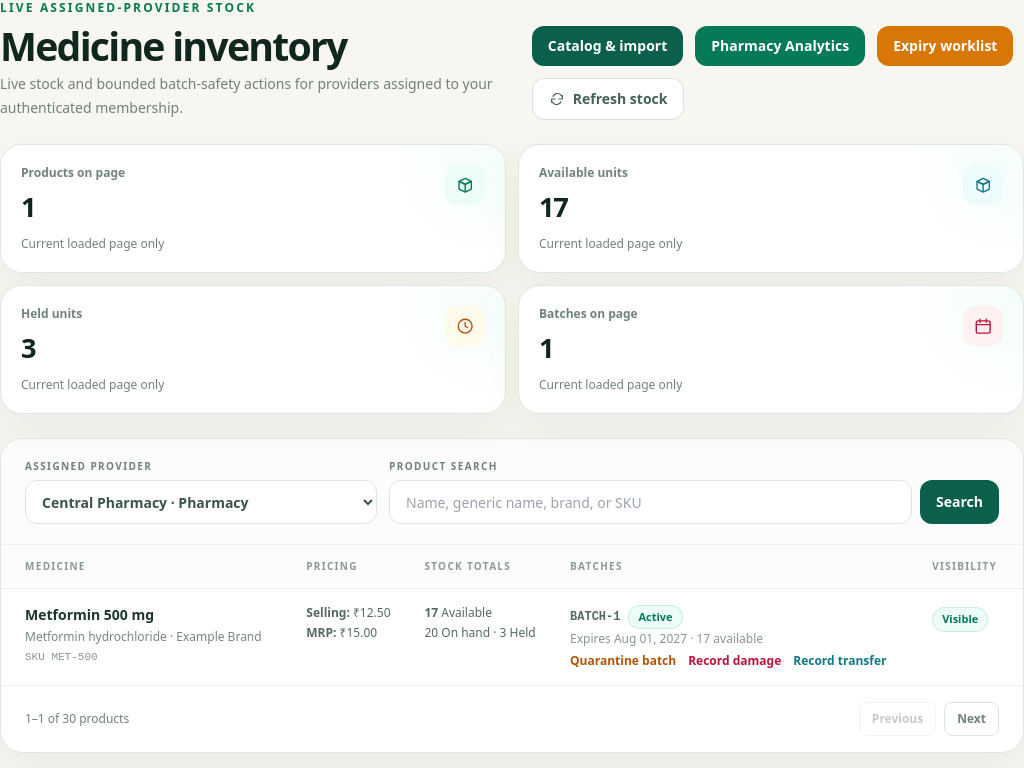
Scenario: InventoryWorkspace live integration › keeps the confirmation open and surfaces bounded mutation errors
The image size is (1024, 768).
Click the button with aria-label "Quarantine batch BATCH-1" at coordinates (623, 661), box x1=570 y1=653 x2=676 y2=669
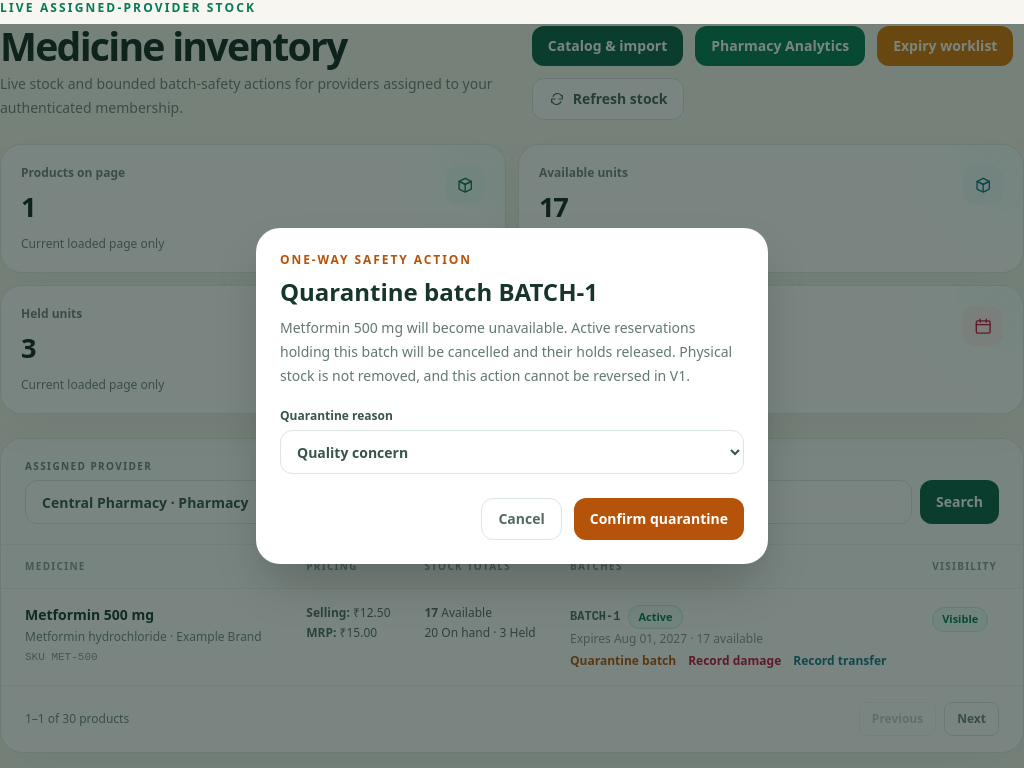
Click the button "Confirm quarantine" at coordinates (659, 519), box x1=574 y1=498 x2=744 y2=540
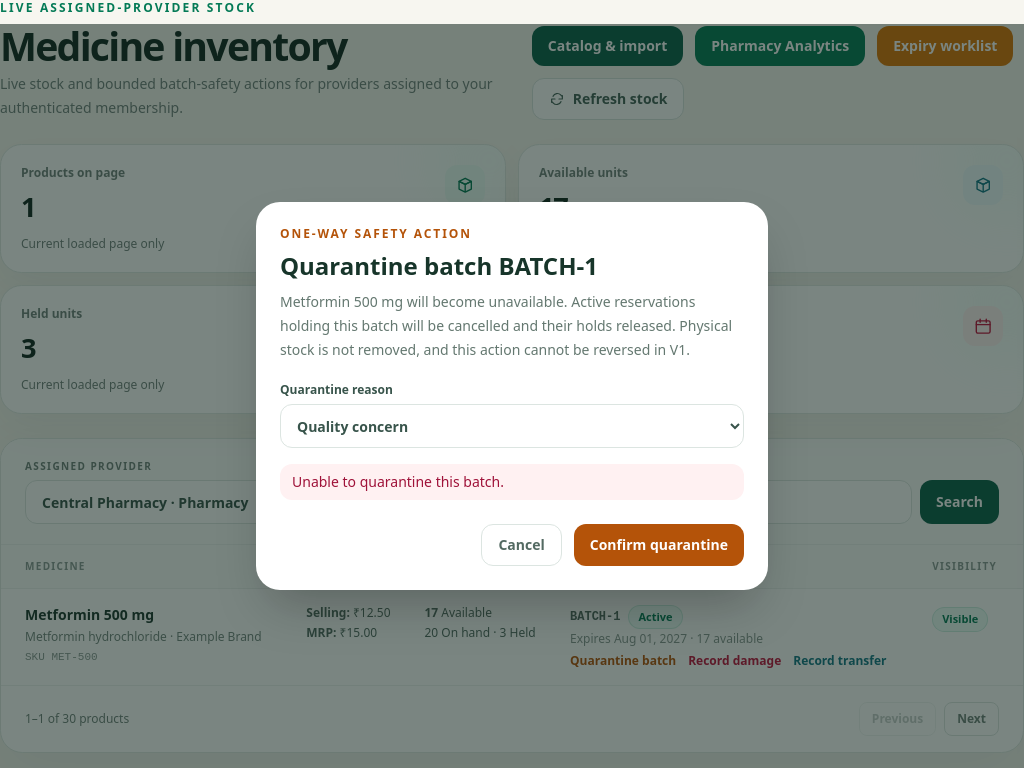
Expected: the dialog is shown
Expected: the message reads "Unable to quarantine this batch.", x1=292 y1=472 x2=504 y2=491
